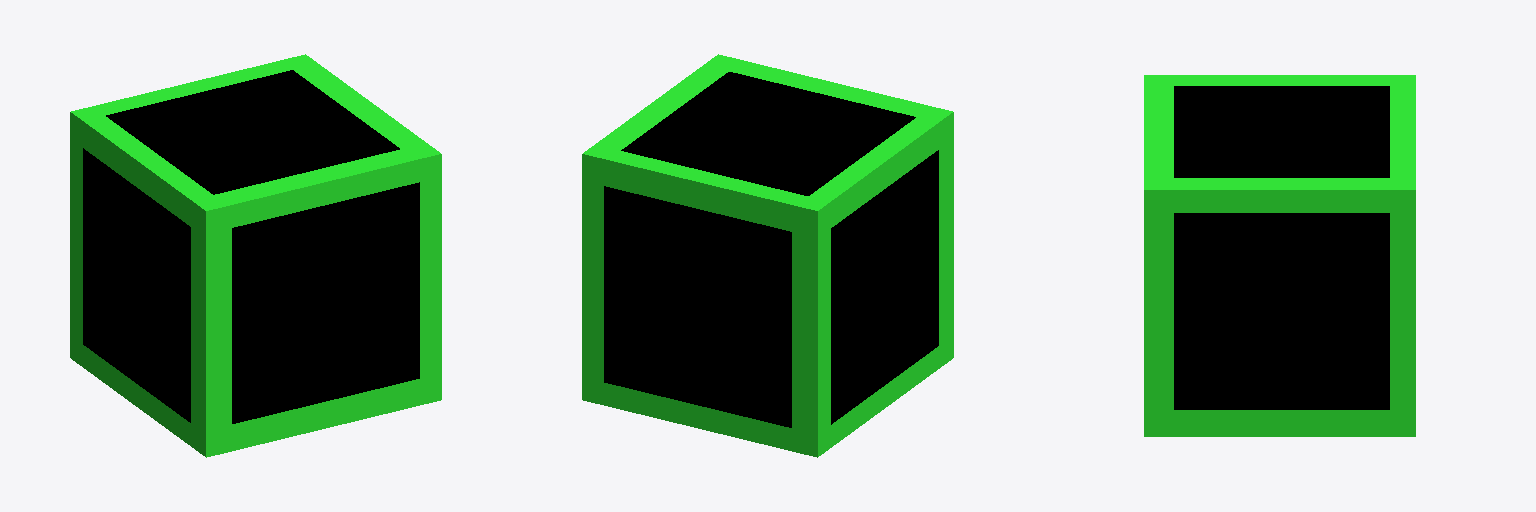
3 views of the same model, side by side, from view 1: azimuth 30°, elevation 25°; view 2: azimuth 150°, elevation 25°; view 3: azimuth 270°, elevation 25° (orthographic).
Parts seen in each view (by area): view 1: Cube; view 2: Cube; view 3: Cube.
Part boxes in pixels (bbox=[...]): Cube: bbox=[70, 54, 441, 457]; Cube: bbox=[582, 54, 953, 457]; Cube: bbox=[1144, 75, 1415, 436].
Size of the model in its own units: 2 by 2 by 2.
1 materials, 1 textured.